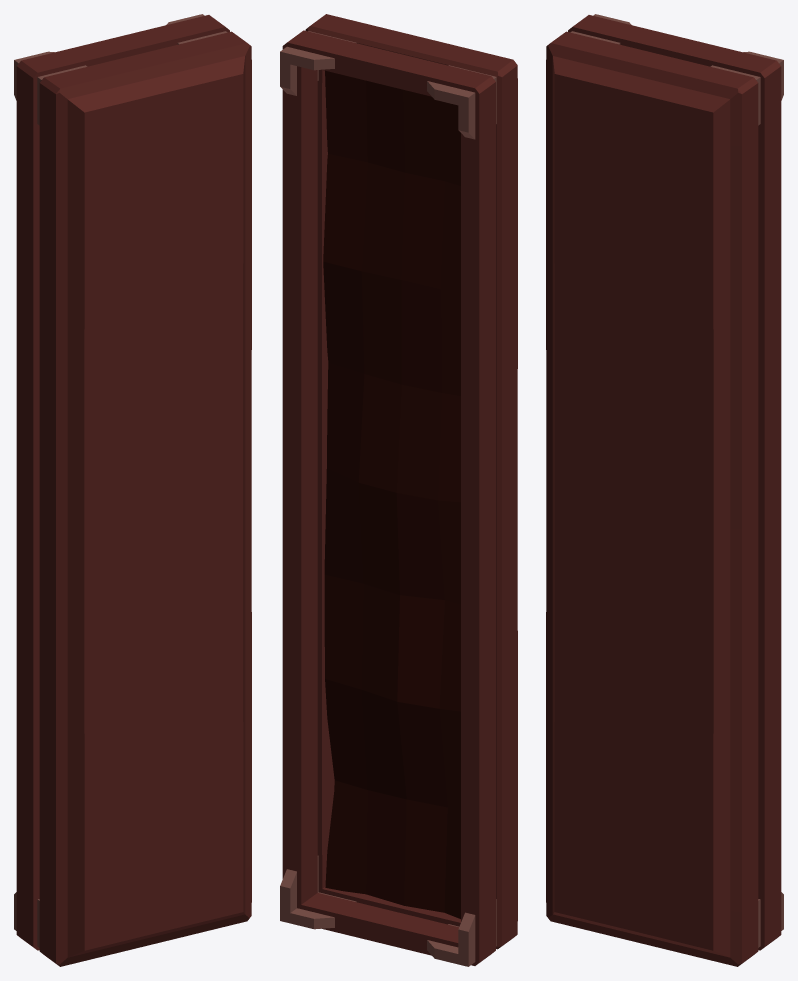
File: dirt_row 1.fbx
The picture shows the model from 3 angles, left to right: view 1: azimuth 30°, elevation 25°; view 2: azimuth 150°, elevation 25°; view 3: azimuth 330°, elevation 25°; orthographic projection.
Visible parts, largest first — view 1: DirtRow; view 2: DirtRow; view 3: DirtRow.
Boxes of the visible parts, x1,y1,x2,y2 form: DirtRow: (14, 14, 251, 966); DirtRow: (280, 14, 517, 966); DirtRow: (546, 14, 783, 966).
Bounding box in the file's own units: 233 × 993 × 114.
